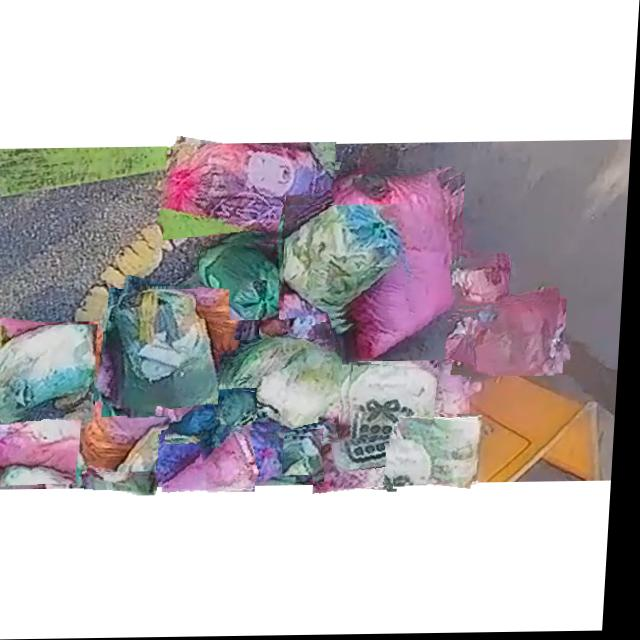general_trashbag: (120, 288, 224, 416), (229, 340, 346, 440), (0, 325, 100, 416), (202, 242, 288, 320), (91, 473, 160, 496), (289, 438, 329, 474), (224, 391, 259, 426)
other_trashbag: (334, 173, 463, 362), (167, 144, 336, 239), (286, 206, 408, 315), (86, 358, 177, 483), (342, 364, 444, 467), (461, 299, 563, 378), (0, 403, 99, 477), (169, 428, 261, 493), (404, 417, 487, 487), (320, 441, 404, 495), (207, 429, 291, 478), (264, 292, 335, 344), (459, 258, 513, 302), (440, 361, 472, 424), (176, 405, 231, 437), (451, 318, 476, 362)
